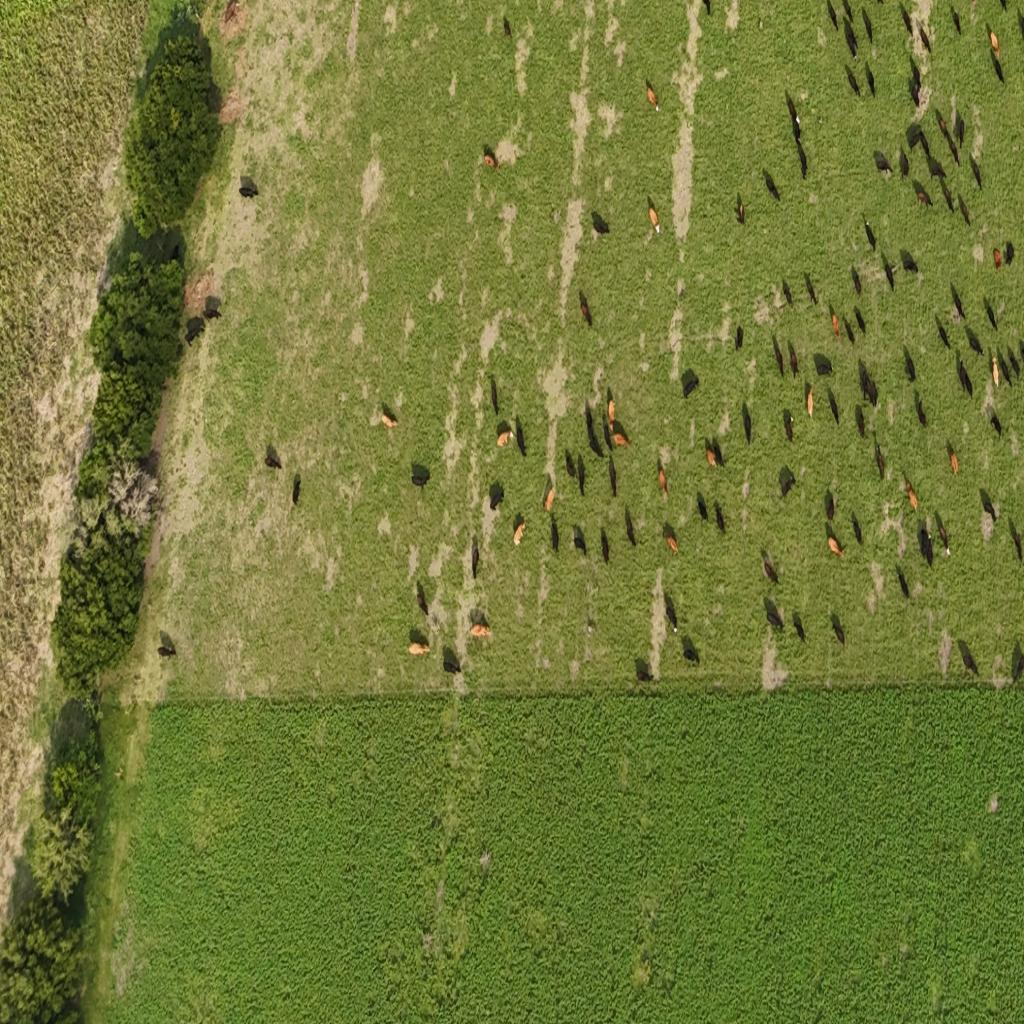cow: (858, 358, 878, 410), (586, 403, 604, 458), (957, 638, 979, 678), (918, 525, 934, 570), (873, 149, 893, 178), (763, 169, 780, 203), (662, 523, 679, 557), (830, 611, 845, 649), (664, 592, 678, 632), (682, 369, 700, 400), (772, 334, 784, 380), (813, 351, 834, 377), (844, 64, 860, 98), (681, 636, 699, 666), (489, 480, 505, 512), (416, 580, 429, 618), (648, 197, 661, 235), (512, 513, 526, 548), (875, 438, 886, 482), (184, 322, 204, 346), (896, 565, 910, 599), (573, 524, 587, 558), (646, 79, 660, 113), (635, 658, 654, 683), (515, 415, 526, 458), (864, 217, 877, 253), (378, 409, 398, 432), (827, 534, 846, 558), (625, 506, 636, 547), (788, 339, 799, 380), (496, 420, 512, 448), (580, 289, 592, 326), (592, 212, 610, 236), (603, 416, 615, 452), (608, 456, 618, 498), (239, 177, 258, 199), (762, 562, 780, 585), (906, 478, 918, 512), (565, 450, 578, 481), (483, 145, 499, 170), (844, 314, 856, 347), (914, 185, 932, 207), (854, 305, 866, 337), (805, 272, 817, 304), (412, 470, 432, 489), (786, 98, 801, 123), (851, 263, 862, 297), (938, 326, 952, 352), (856, 404, 866, 440), (658, 465, 668, 501), (471, 539, 480, 579), (264, 451, 282, 471), (735, 193, 746, 225), (1016, 640, 1024, 684), (939, 526, 950, 558), (469, 623, 491, 639), (169, 241, 183, 266), (542, 485, 554, 514), (827, 0, 838, 31), (852, 512, 862, 546), (954, 294, 966, 322), (884, 265, 896, 293), (797, 155, 809, 183), (1004, 240, 1016, 268), (782, 277, 793, 307), (490, 375, 498, 416), (601, 528, 610, 564), (991, 353, 1000, 389), (204, 303, 222, 321), (706, 441, 717, 470), (990, 413, 1002, 439), (986, 307, 999, 331), (920, 28, 932, 54), (551, 515, 559, 554), (937, 112, 949, 138), (984, 500, 998, 522), (920, 130, 931, 158), (866, 64, 875, 98), (612, 432, 631, 448), (443, 660, 462, 676), (969, 336, 984, 356), (714, 507, 725, 534), (585, 398, 594, 431), (578, 458, 585, 500), (408, 642, 429, 656), (784, 414, 794, 443), (990, 29, 1000, 58), (712, 445, 724, 469), (766, 613, 784, 629), (841, 0, 853, 24), (292, 474, 301, 506), (157, 644, 176, 659), (830, 397, 840, 425), (781, 476, 795, 496), (949, 448, 959, 476), (696, 500, 708, 523), (931, 164, 947, 181), (1014, 531, 1023, 561), (950, 140, 960, 167), (1001, 362, 1012, 386), (909, 130, 921, 152), (961, 201, 971, 227), (958, 358, 966, 390), (806, 388, 814, 420), (793, 622, 805, 643), (904, 10, 913, 38), (846, 33, 856, 58), (974, 161, 982, 192), (735, 323, 744, 350), (745, 412, 752, 446), (903, 259, 920, 273), (945, 188, 954, 214), (865, 17, 874, 43), (902, 153, 910, 182), (848, 25, 858, 48), (907, 357, 916, 382), (918, 400, 926, 428), (608, 398, 616, 426), (832, 312, 840, 340), (965, 372, 973, 400), (910, 86, 920, 108), (793, 122, 803, 144), (827, 496, 835, 522), (996, 60, 1004, 85), (503, 16, 512, 38), (1012, 356, 1020, 380), (994, 247, 1002, 270), (914, 66, 922, 88), (959, 119, 965, 148), (954, 12, 961, 36), (701, 0, 711, 16), (998, 0, 1008, 14)
